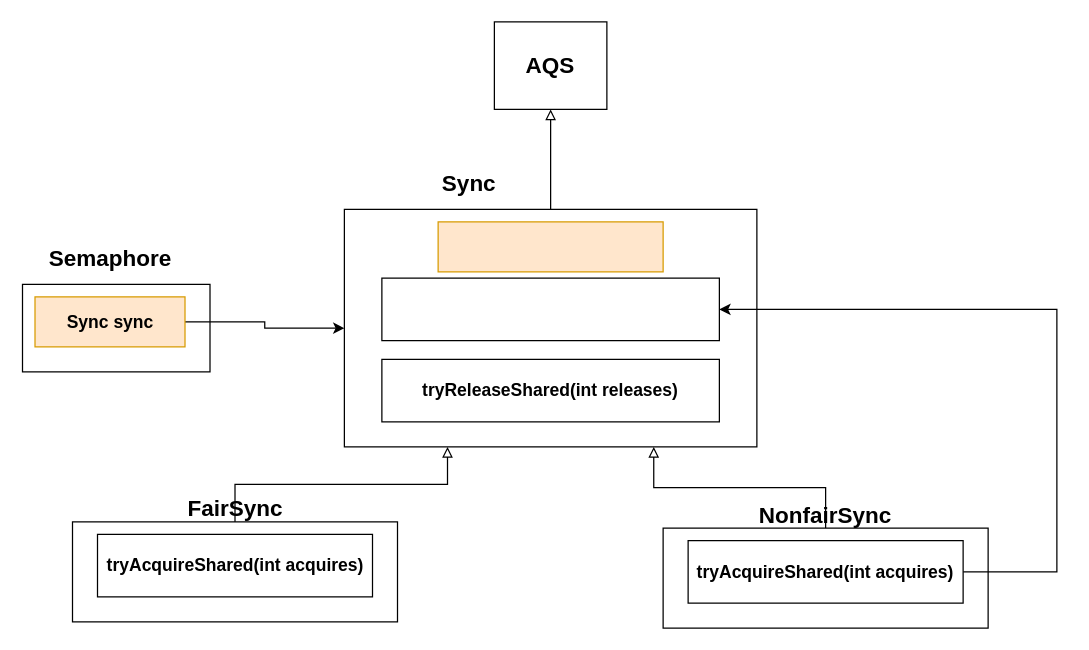
The diagram is 1089 pixels wide and 650 high, and some of its shapes have lost their labels. Here are the shapes that lost their labels. From the top down, the centre of each, then its label:
At pixel 550 246: "int state (信号量)".
At pixel 550 309: "nonfairTryAcquireShared(int acquires)".
